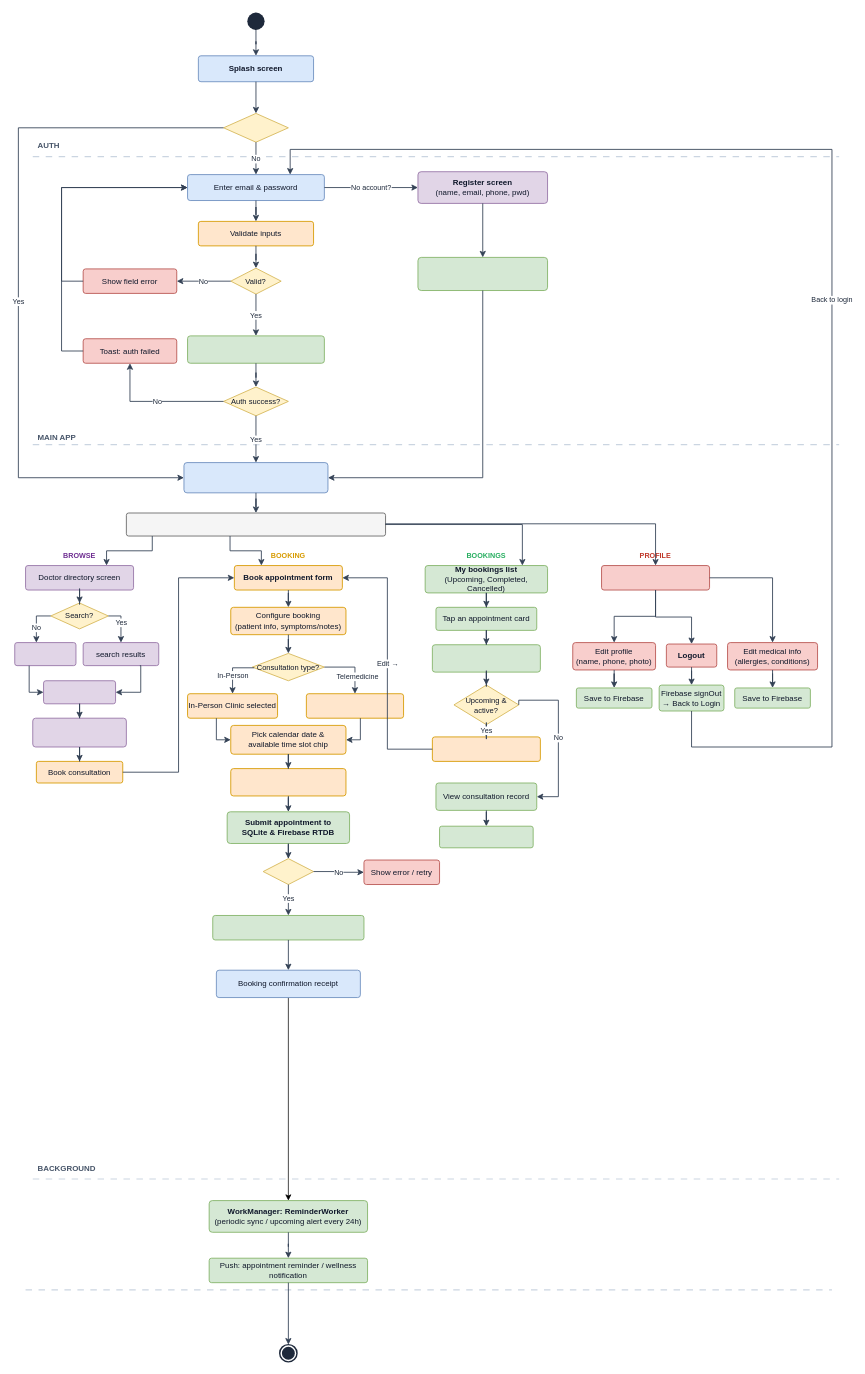
Some shapes in this 865 by 1374 pixel diagram are drawn without their labels. The box of each missing label's shape, as (x1, y1, x2, y2) in pixels:
Appointment detail (status, specs, total): (432, 644, 540, 672)
Bottom Nav: Home(Doctors) • Book • Bookings • Profile: (126, 512, 386, 536)
Calculate total fee: (230, 768, 346, 796)
Create Firebase user + save to Realtime DB & SQLite: (417, 257, 548, 291)
Doctor detail (fee, hospital, rating): (32, 717, 126, 747)
Firebase signInWithEmail: (187, 335, 324, 363)
Home screen (featured doctors + lab tests + stats): (183, 462, 328, 493)
Load all doctors: (14, 642, 76, 666)
Logged in?: (223, 113, 288, 142)
Notify on status change: (439, 825, 533, 848)
Profile screen: (601, 565, 710, 590)
Push notification: order / booking placed: (212, 915, 364, 940)
Reschedule / Cancel booking: (432, 736, 540, 761)
Saved?: (262, 858, 314, 885)
Select doctor: (43, 680, 116, 704)
Video Telemedicine selected: (306, 693, 404, 718)
